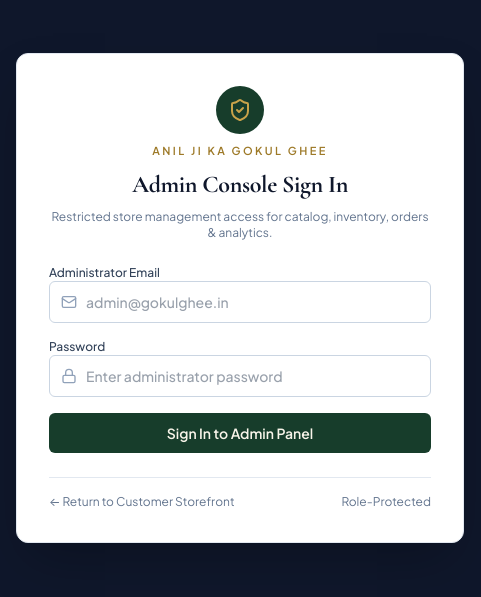
Scenario: Phase 5 Dedicated Admin Console & Telemetry UI › rejects customer-role credentials on /admin/login and keeps admin workspace locked
This screenshot has width=481, height=597.
Type "customer@example.com" into the field labelled "Administrator Email" at coordinates (240, 302), box [49,281,431,323]
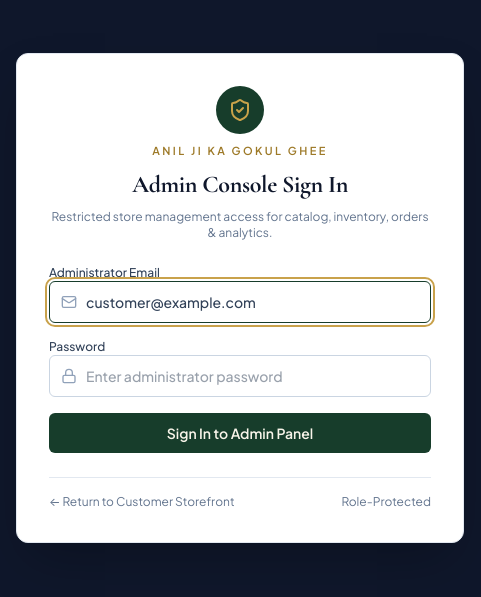
Type "Secret123!" into the password field labelled "Password" at coordinates (240, 376), box [49,355,431,397]
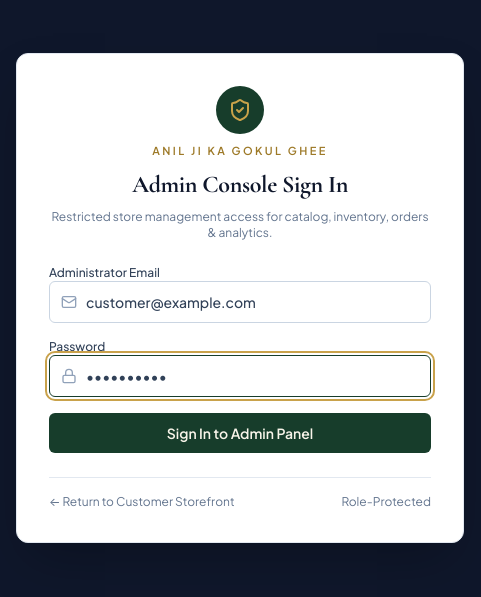
Click the button "Sign In to Admin Panel" at coordinates (240, 433), box [49,413,431,453]
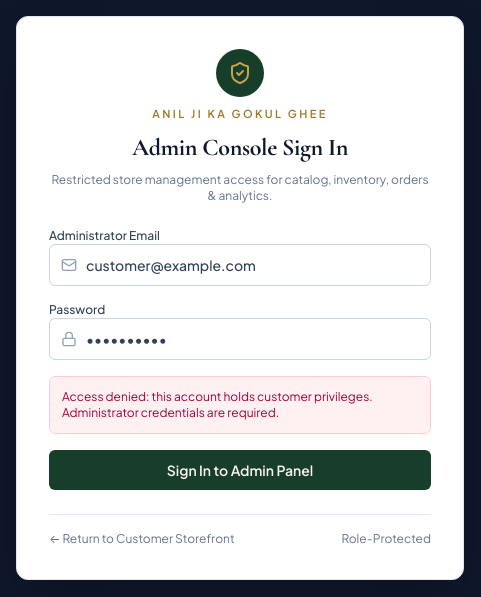
Now the message shows "Administrator credentials are required", box [62,389,373,420]
